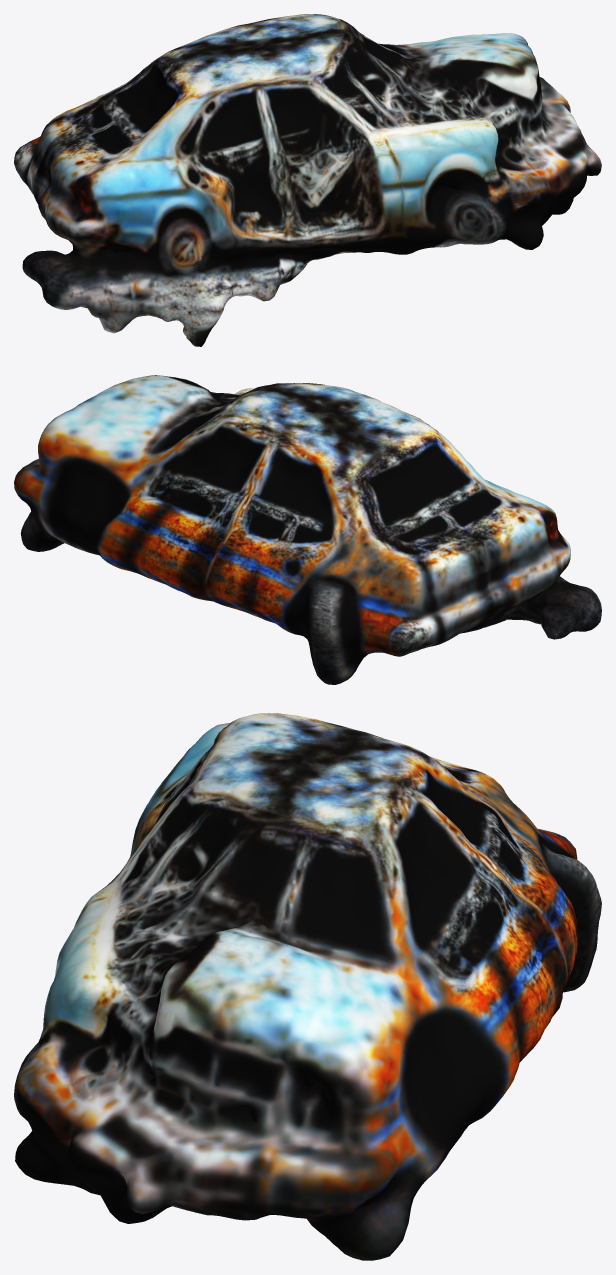
File: car_accident.glb
3 views of the same model, one above another, from view 1: azimuth 30°, elevation 25°; view 2: azimuth 150°, elevation 25°; view 3: azimuth 270°, elevation 25° (orthographic). The views are drawn at different scales.
Parts seen in each view (by area): view 1: mesh_obj; view 2: mesh_obj; view 3: mesh_obj.
Boxes of the visible parts, bbox=[...] form: mesh_obj: bbox=[14, 14, 601, 346]; mesh_obj: bbox=[14, 375, 601, 684]; mesh_obj: bbox=[14, 713, 601, 1260].
Size of the model in its own units: 0.919 by 0.3493 by 0.5623.
1 material, 1 textured.
